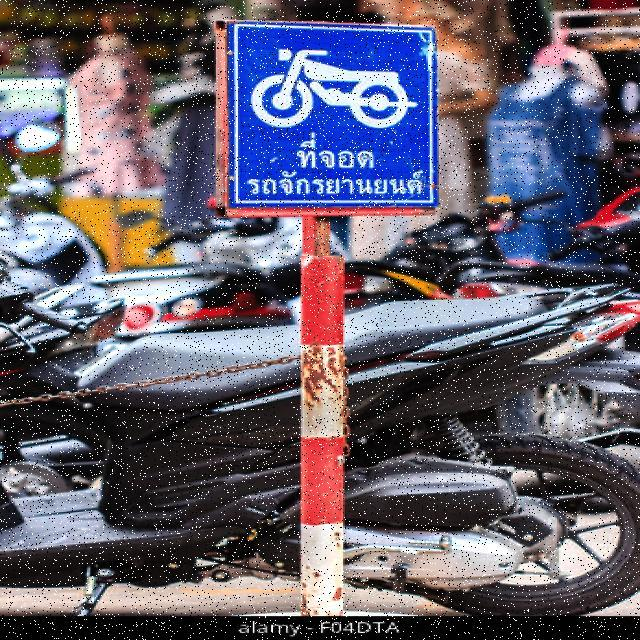Traffic sign: (208, 8, 447, 224)
